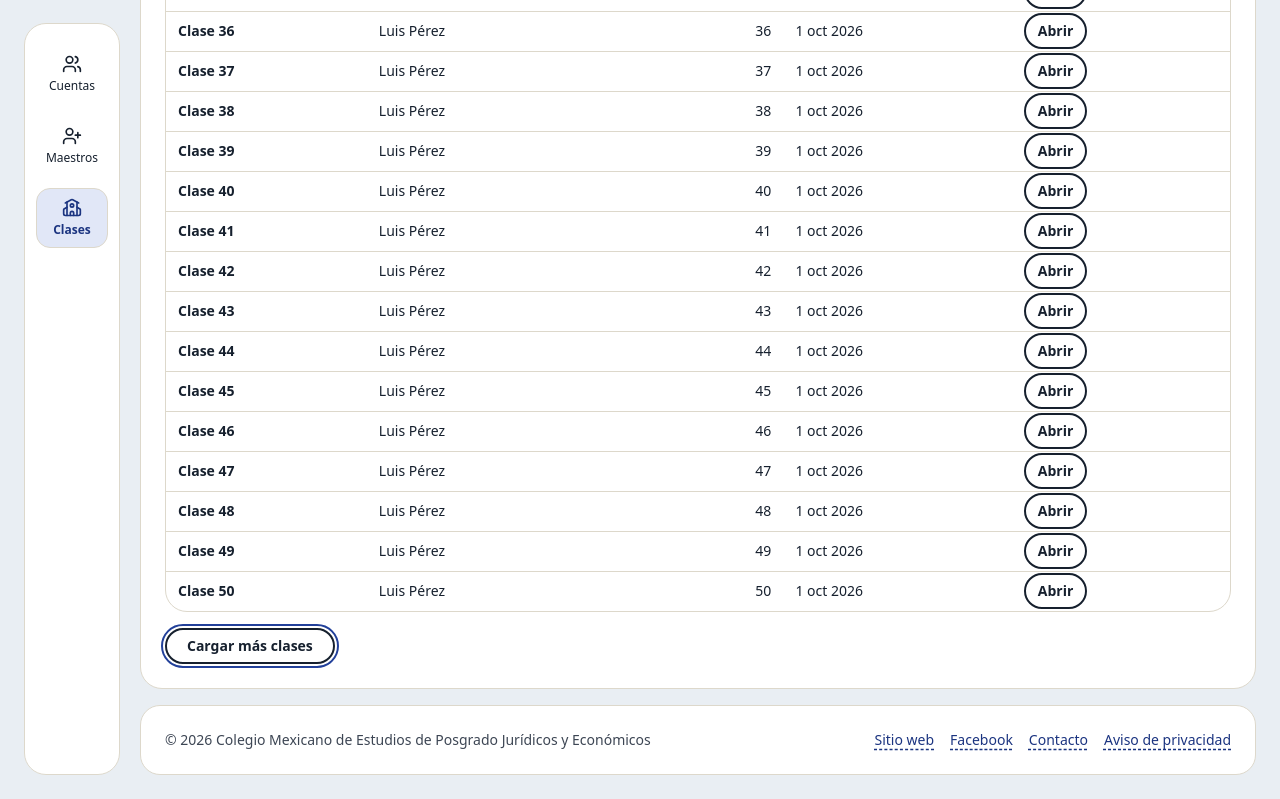
Test: ataque CLASES-02c r1: «Cargar más clases» › el 400 del cursor dice qué pasó y qué hacer, sin «no es válido»; el foco no cae en <body>
The width and height of the screenshot is (1280, 799).
(page scrolled)
Click the button "Cargar más clases" at x=250, y=646, box x1=165 y1=628 x2=335 y2=664
(page scrolled)
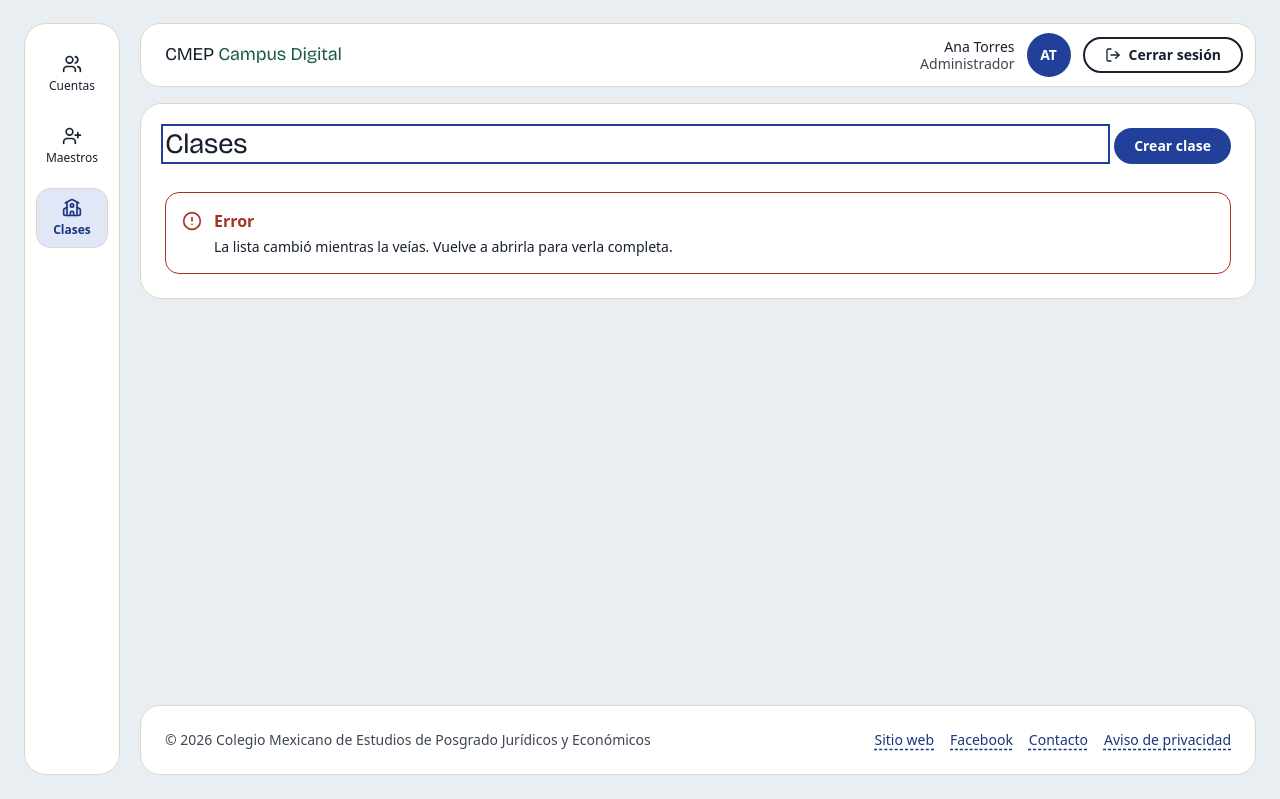
Expected: the message shows "La lista cambió mientras la veías. Vuelve a abrirla para verla completa.", x1=214 y1=237 x2=673 y2=256
